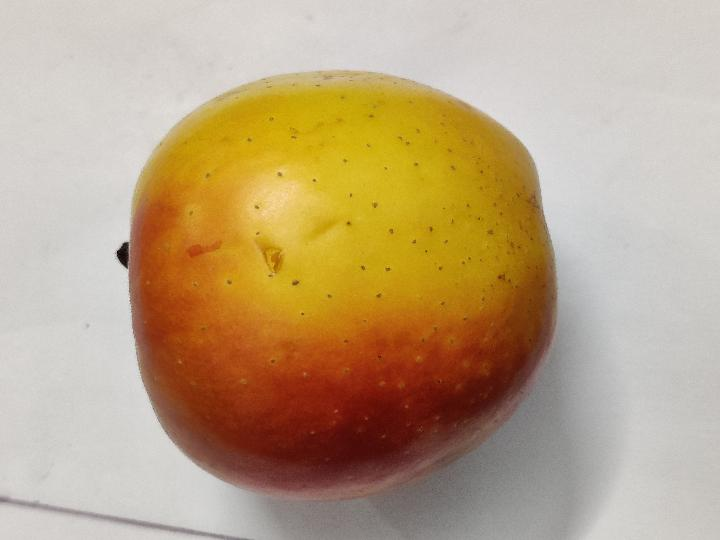apple: (122, 72, 556, 497)
surface_damage: (254, 235, 284, 277), (186, 240, 222, 258)
